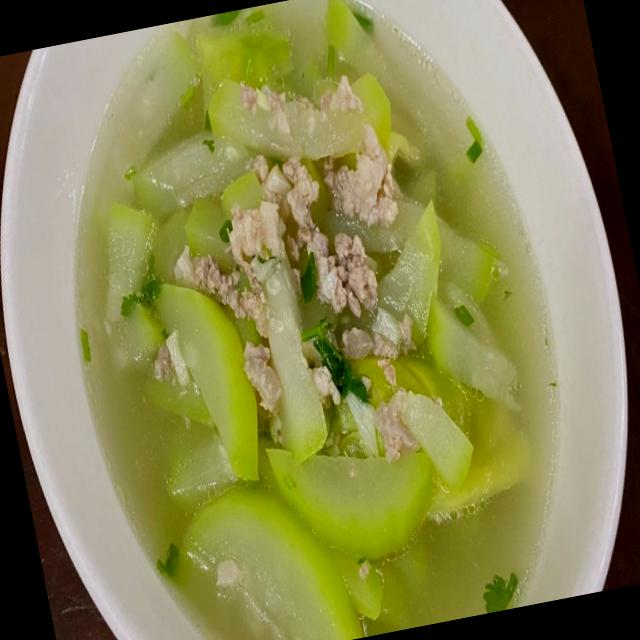canh bau: (69, 0, 559, 640)
